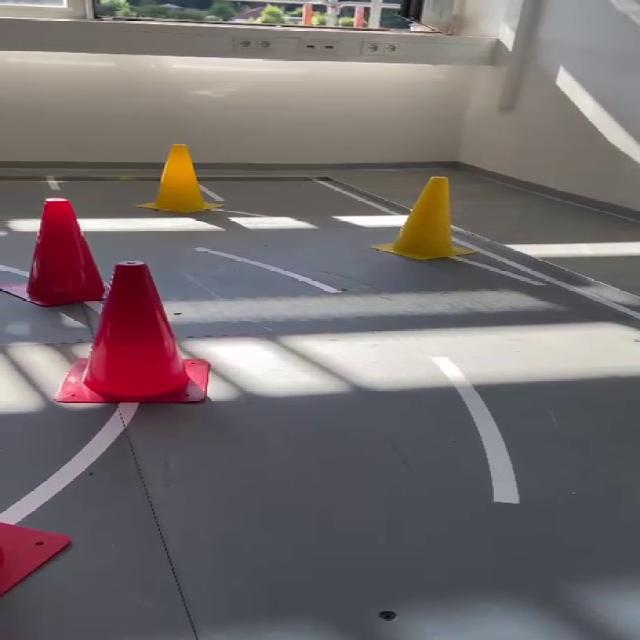Cone-red: (54, 262, 208, 403), (0, 198, 103, 306)
Cones-yellow: (372, 176, 473, 260), (138, 145, 222, 213)
